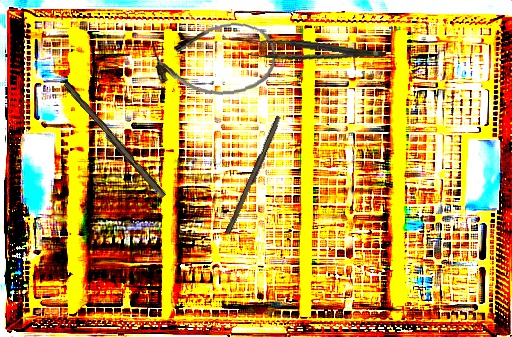Cannula: (151, 18, 280, 102)
Scalpel Handle: (59, 81, 169, 200), (224, 114, 284, 237)
Tissue Forceps: (247, 33, 387, 74)
